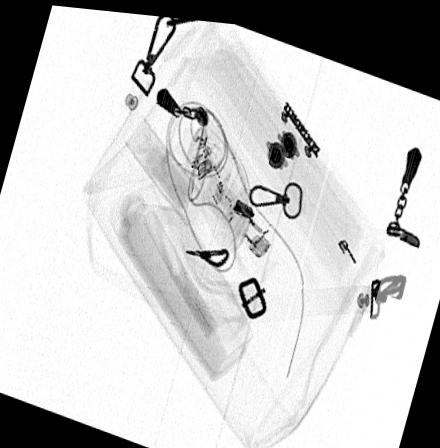Lighter: (201, 170, 272, 253)
